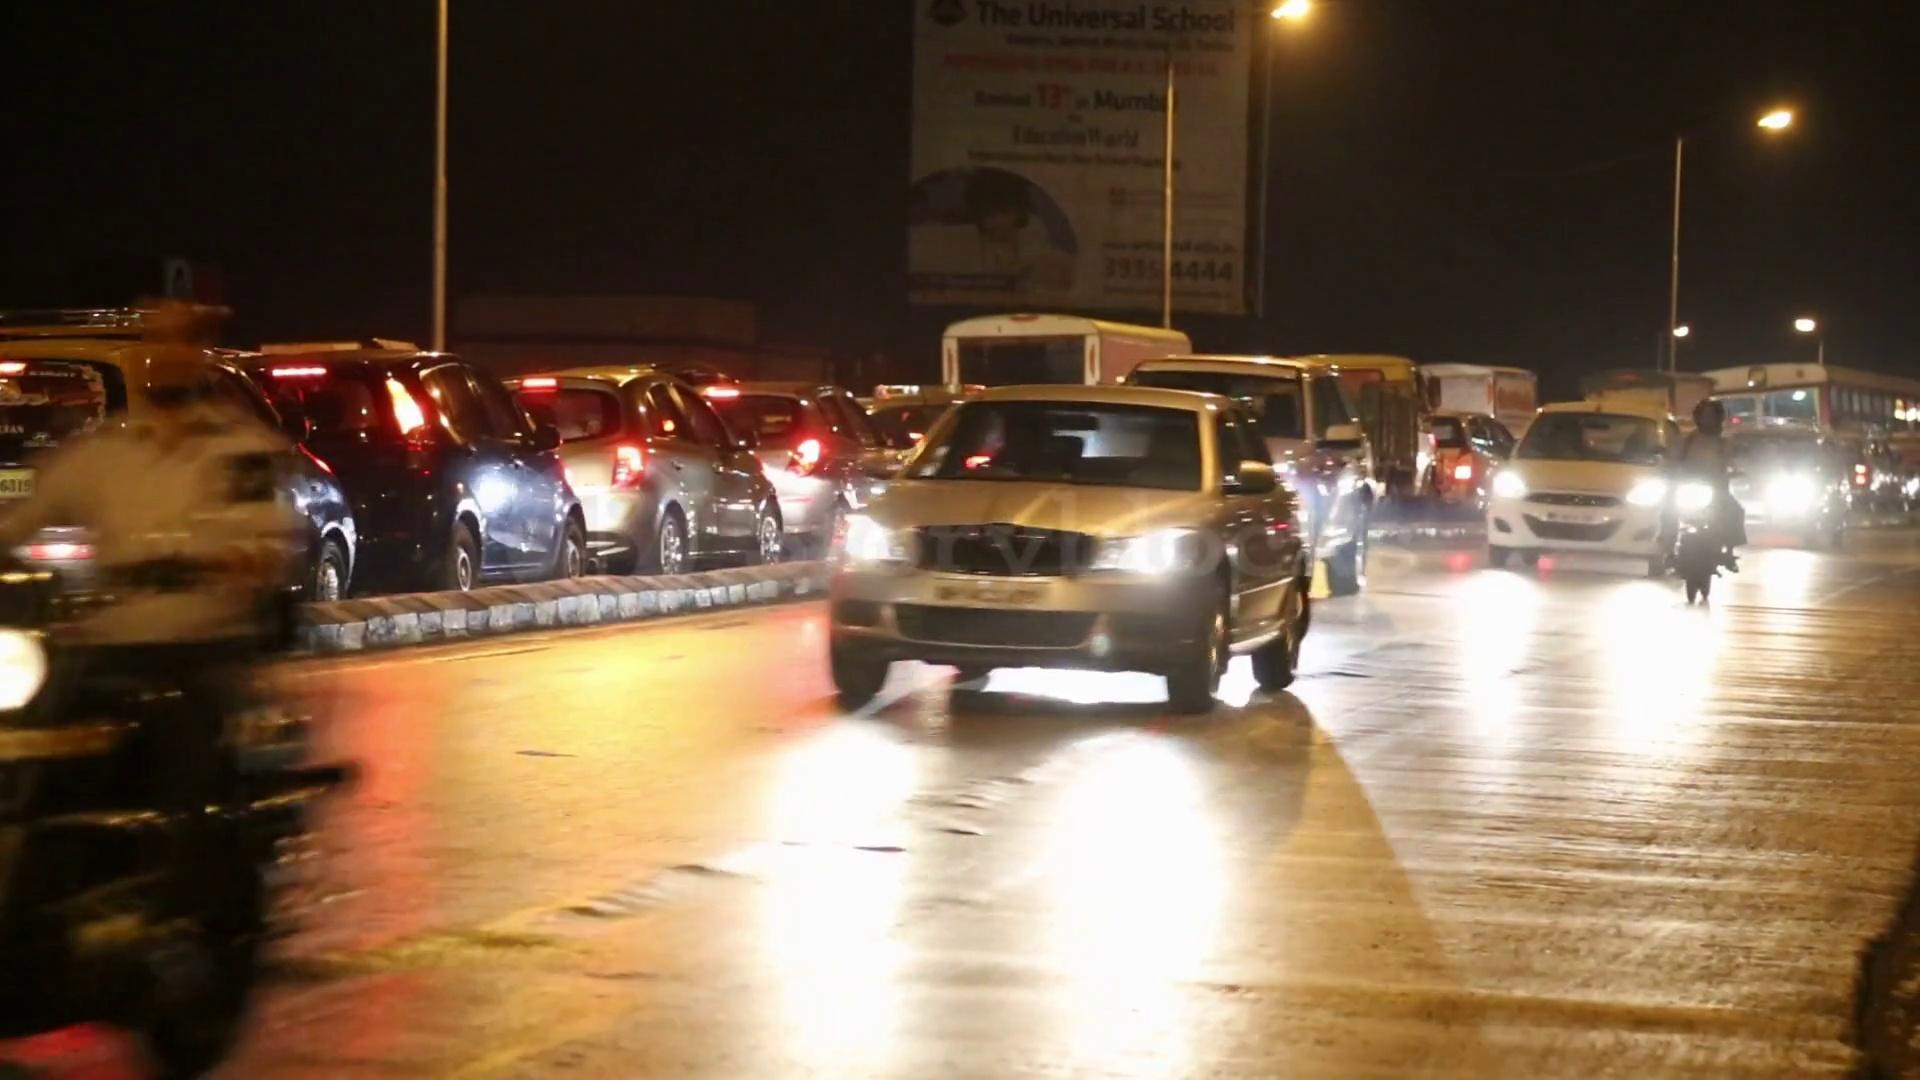rider: (4, 289, 323, 1073), (1667, 397, 1747, 604)
